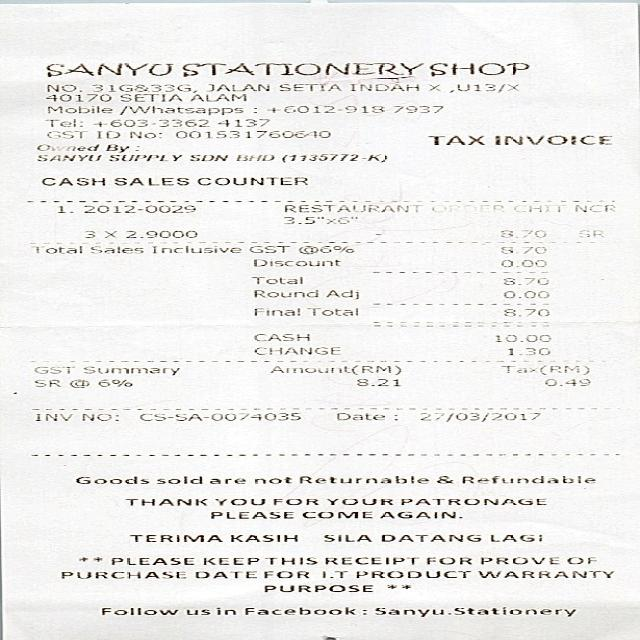text: (36, 61, 526, 76), (372, 605, 572, 616), (136, 411, 299, 420), (118, 104, 242, 115), (174, 130, 328, 138), (266, 365, 398, 374), (52, 204, 193, 212), (418, 411, 540, 420), (498, 364, 589, 376), (281, 204, 417, 212), (458, 475, 592, 483), (493, 135, 610, 144), (298, 475, 427, 483), (398, 497, 543, 504), (59, 570, 184, 578), (243, 605, 354, 614), (279, 153, 384, 162), (477, 570, 612, 577), (264, 105, 382, 113), (511, 204, 615, 213), (91, 118, 206, 126), (260, 584, 371, 592), (82, 365, 176, 374), (90, 84, 194, 92), (353, 570, 468, 577), (217, 130, 316, 138), (194, 177, 306, 184), (324, 556, 416, 564), (151, 245, 238, 253), (252, 258, 339, 266), (253, 346, 338, 354), (107, 556, 192, 564), (378, 510, 461, 518), (128, 534, 221, 541), (210, 510, 290, 518), (431, 204, 502, 213), (478, 556, 556, 564), (98, 606, 175, 614), (380, 534, 479, 540), (74, 476, 147, 484), (248, 273, 300, 284), (488, 333, 550, 342), (448, 84, 516, 92), (110, 177, 186, 184), (42, 92, 108, 100), (44, 104, 109, 112), (494, 258, 546, 268), (105, 154, 179, 161), (33, 142, 97, 150), (38, 177, 102, 185), (124, 230, 196, 237), (494, 244, 544, 254), (283, 216, 354, 223), (298, 510, 369, 517), (124, 498, 206, 504), (118, 92, 179, 100), (193, 570, 254, 578), (296, 245, 350, 254), (335, 411, 382, 421), (227, 534, 294, 541), (498, 347, 550, 356), (33, 154, 99, 161), (325, 497, 391, 504), (542, 376, 588, 386), (498, 308, 548, 317), (188, 92, 244, 100), (426, 136, 482, 144), (252, 332, 307, 340), (202, 556, 257, 564), (494, 291, 548, 299), (216, 118, 268, 126), (90, 245, 142, 253), (264, 556, 316, 564), (29, 245, 80, 253), (496, 230, 546, 238), (305, 307, 355, 315), (184, 606, 233, 614), (250, 290, 315, 296), (350, 84, 414, 90), (30, 412, 72, 421), (424, 556, 471, 564), (205, 84, 267, 90), (352, 378, 398, 386), (155, 476, 201, 484), (260, 570, 306, 578), (278, 84, 338, 90), (252, 307, 296, 315), (392, 105, 442, 112), (488, 534, 540, 540), (501, 277, 545, 284), (272, 497, 316, 504), (43, 118, 81, 126), (214, 498, 264, 504), (323, 289, 356, 298), (46, 130, 82, 138), (321, 534, 368, 540), (247, 245, 287, 252), (102, 143, 136, 151), (125, 130, 158, 138), (81, 412, 110, 421), (31, 366, 73, 372), (252, 476, 288, 483), (95, 379, 130, 386), (234, 154, 273, 160), (187, 154, 225, 160), (574, 230, 602, 238), (208, 477, 244, 483), (45, 84, 80, 90), (94, 130, 118, 138), (566, 556, 593, 563), (318, 570, 344, 577), (34, 379, 58, 386), (66, 379, 86, 387), (435, 475, 451, 483), (81, 230, 92, 237), (103, 230, 114, 237), (429, 84, 438, 90), (608, 134, 610, 136)
